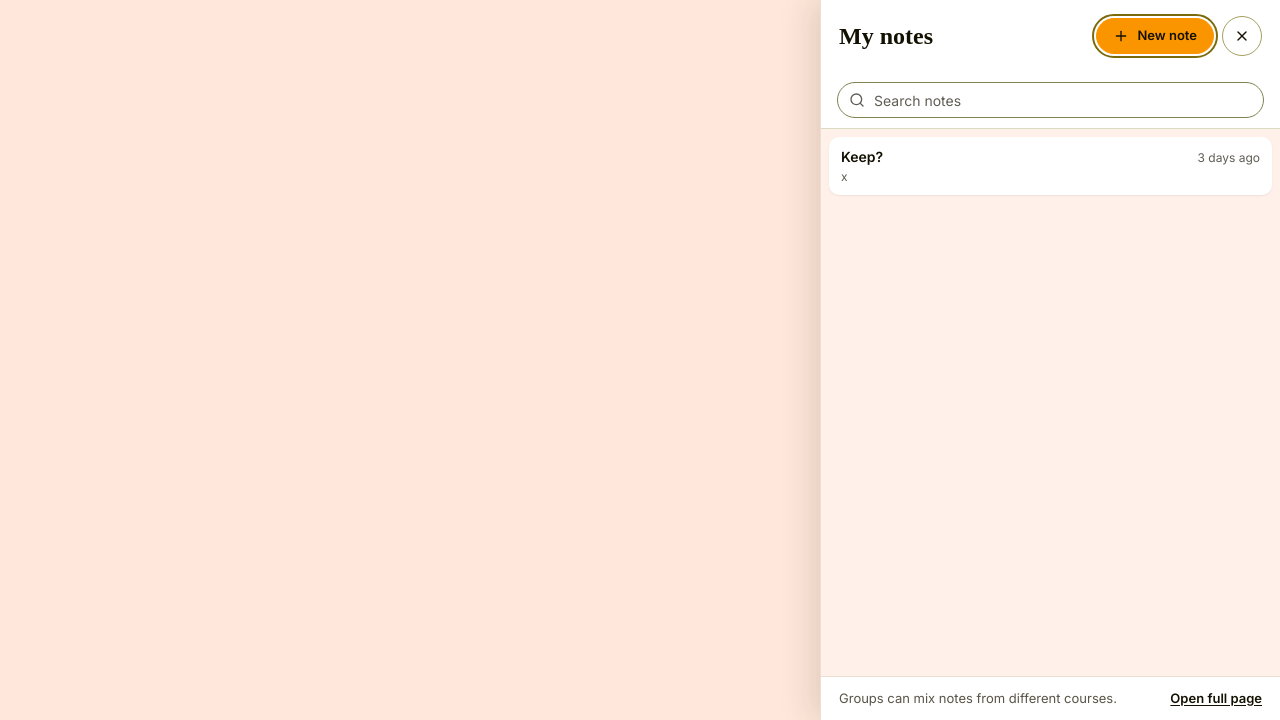
Test: My Notes panel › asks before deleting and deletes only after confirmation
Click the text "Keep?" at {"x": 862, "y": 157}, box [841,147,883,167]
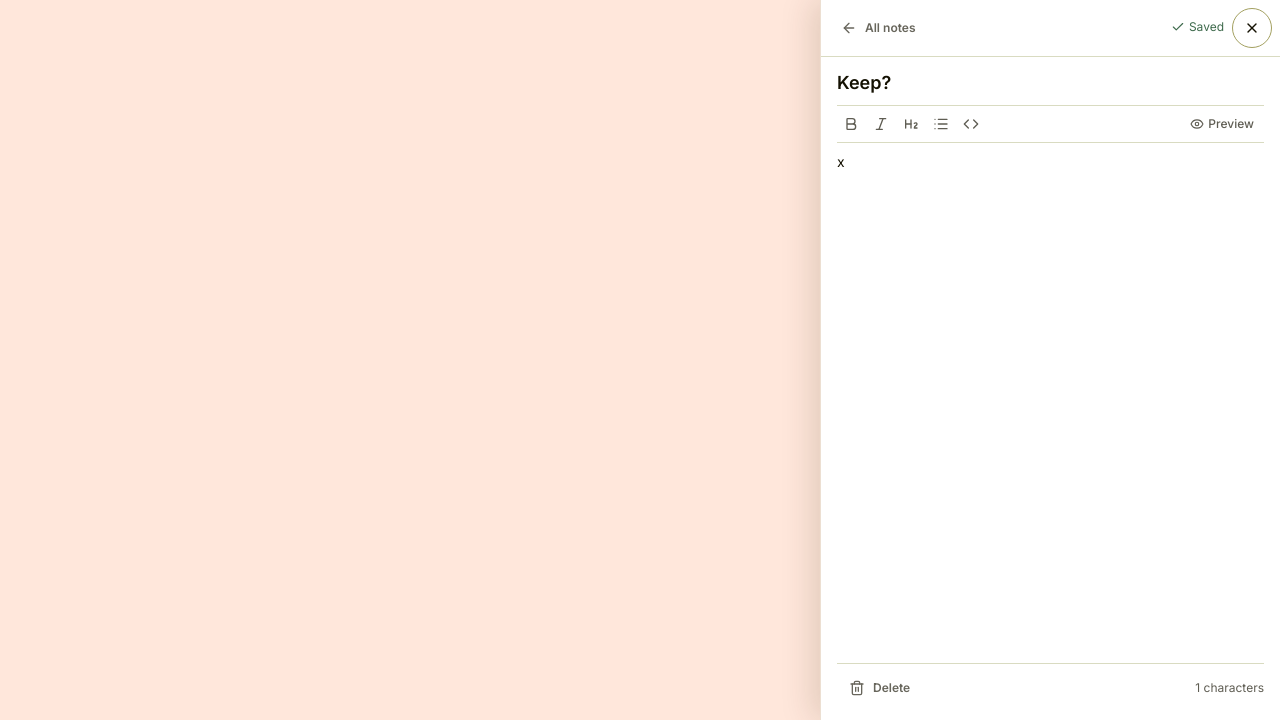
Result: the field showing "Keep?" is shown at [837,69,1264,97]
Click the button "Delete" at {"x": 880, "y": 688}, box [837,672,922,704]
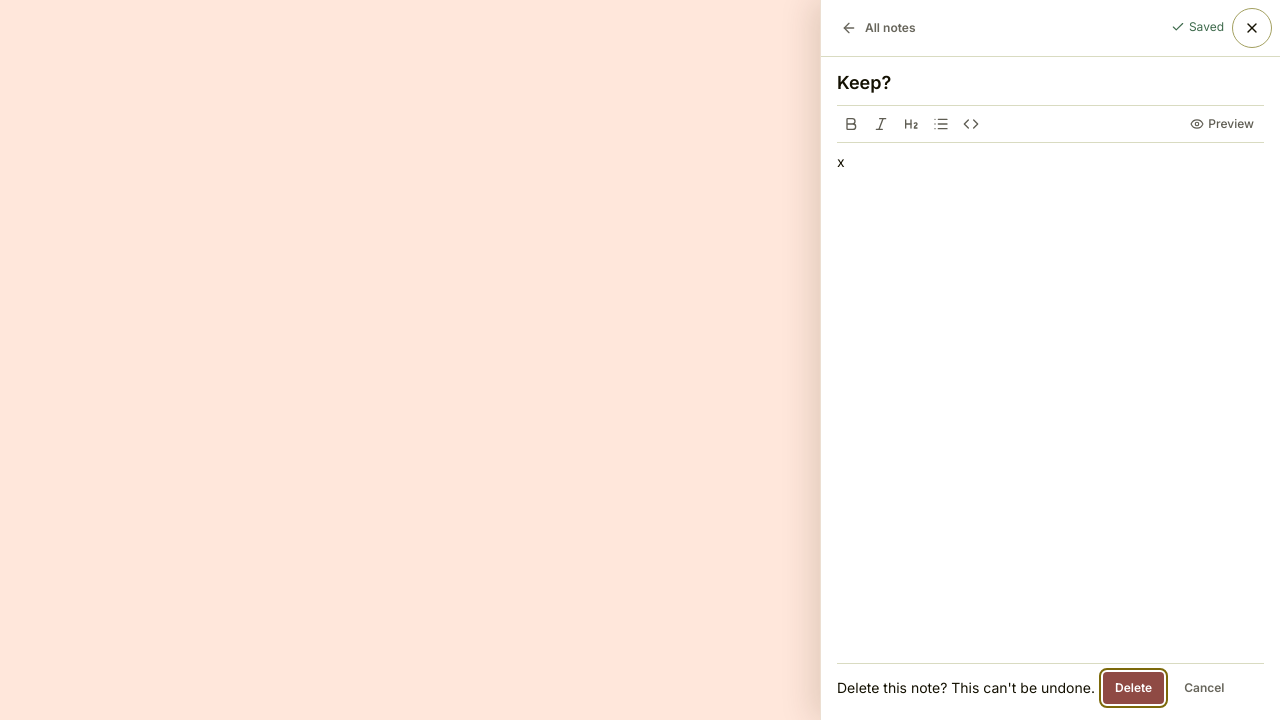
Click the button "Cancel" at {"x": 1204, "y": 688}, box [1172,672,1236,704]
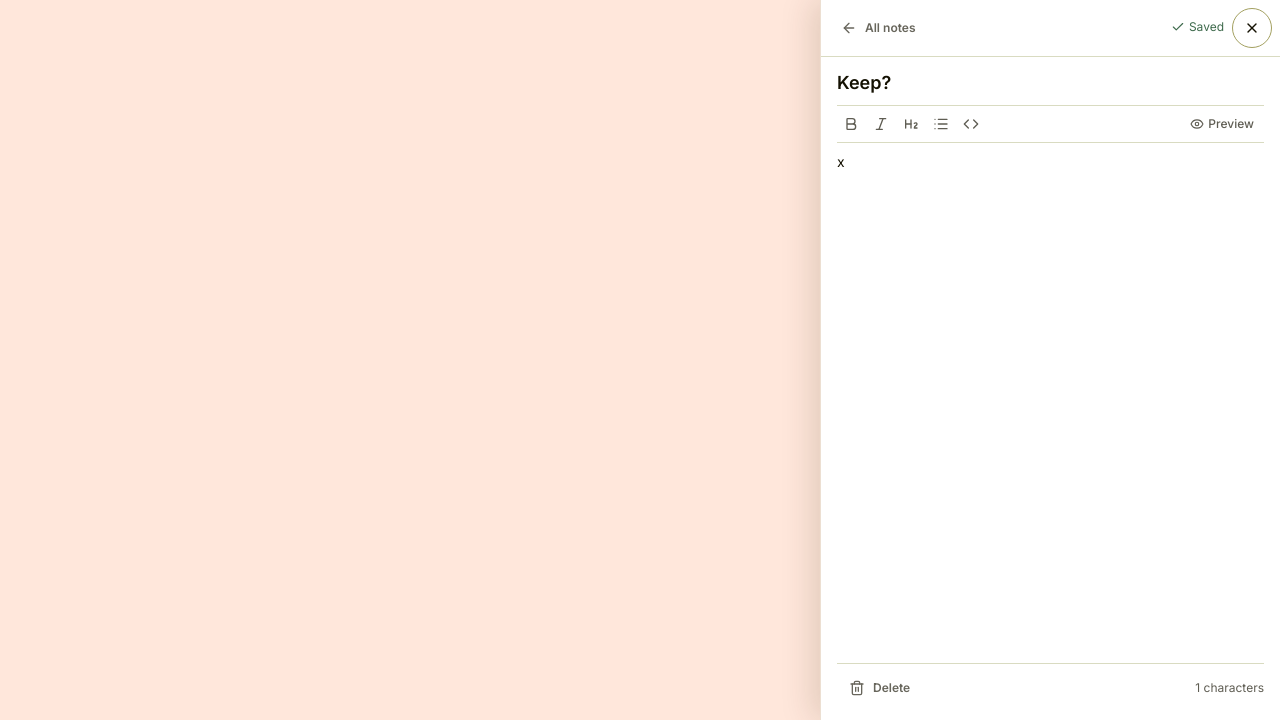
Click the button "Delete" at {"x": 880, "y": 688}, box [837,672,922,704]
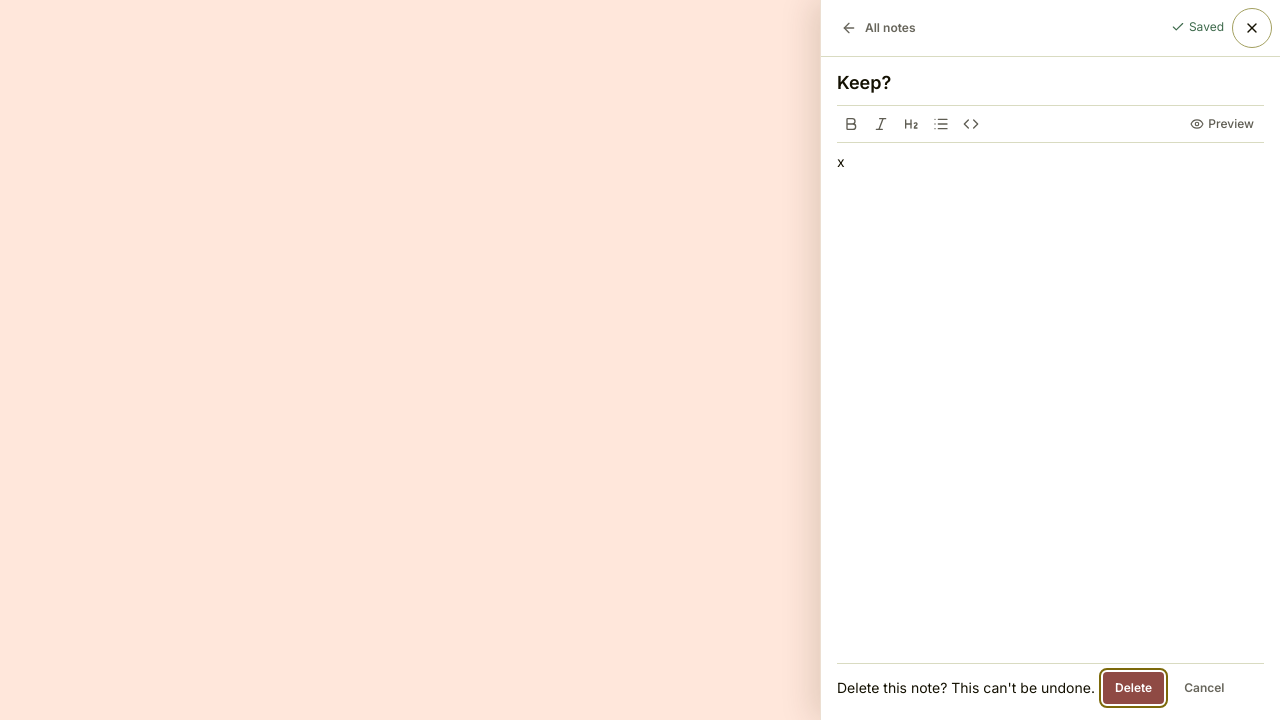
Click the button "Delete" at {"x": 1134, "y": 688}, box [1103,672,1164,704]
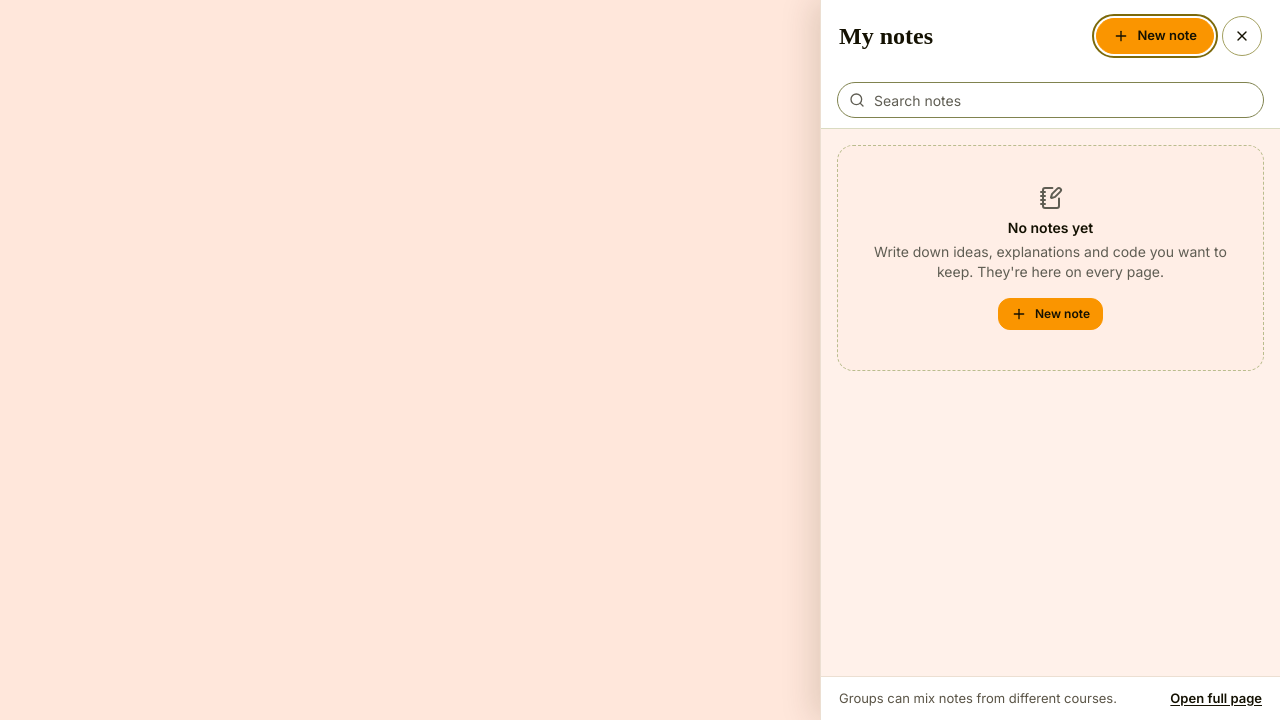
Result: the text "No notes yet" is shown at [1008,219,1093,236]
